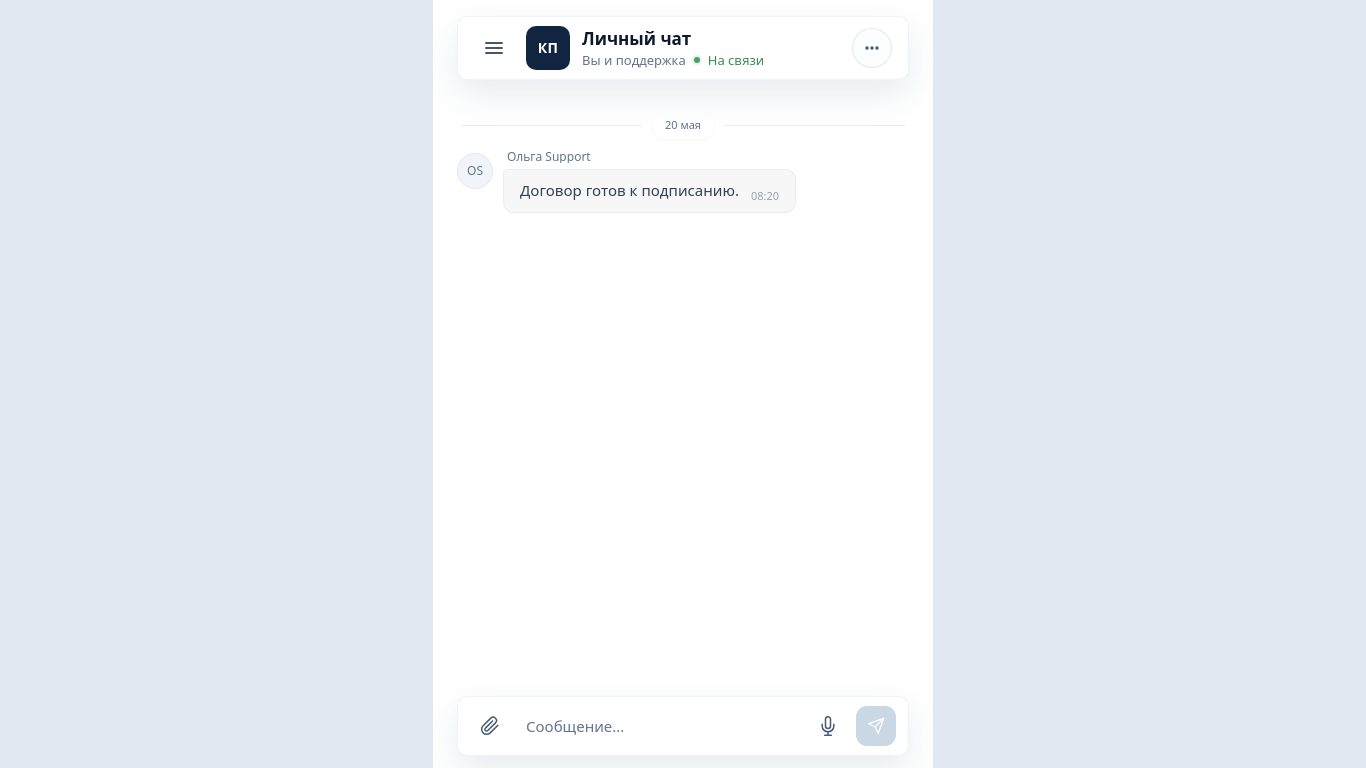
Test case: ChatPage search context regressions › ignores stale context responses when another search result opens first
This screenshot has width=1366, height=768.
Expected: the text "Договор готов к подписанию." is shown, [520, 180, 739, 200]
Click the button named "Открыть меню чата": (872, 48) [852, 28, 892, 68]
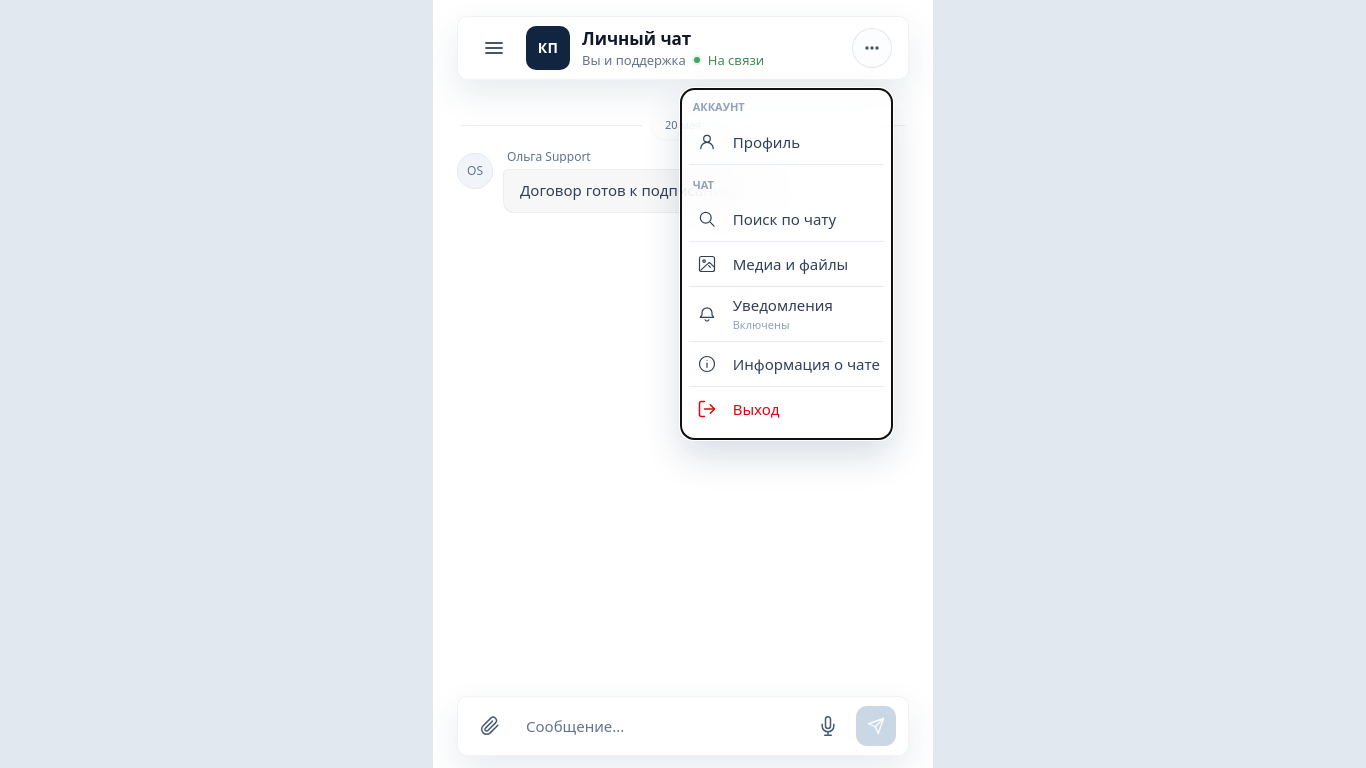
Click the menu item "Поиск по чату": (786, 220) [689, 197, 884, 242]
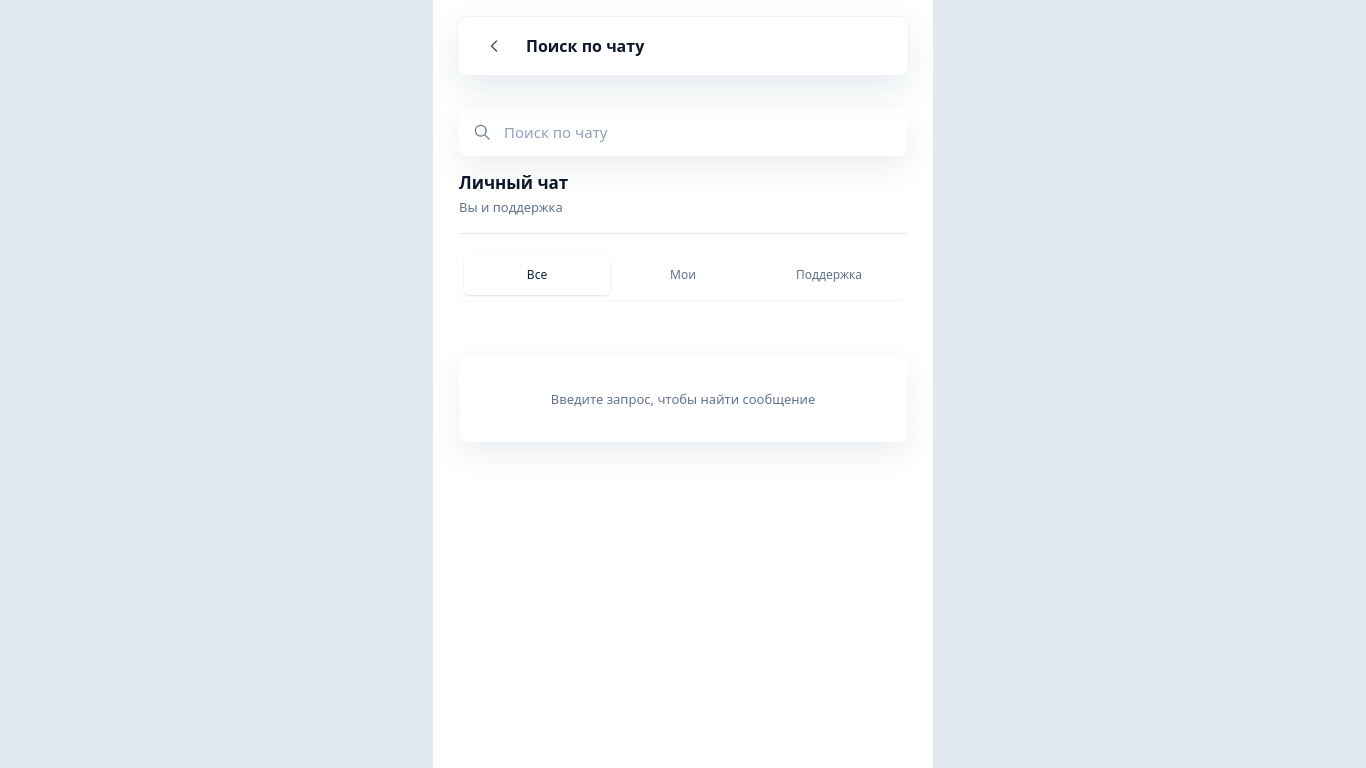
In the search field labelled "Поиск по чату": (699, 132) [504, 110, 894, 154], type "договор"
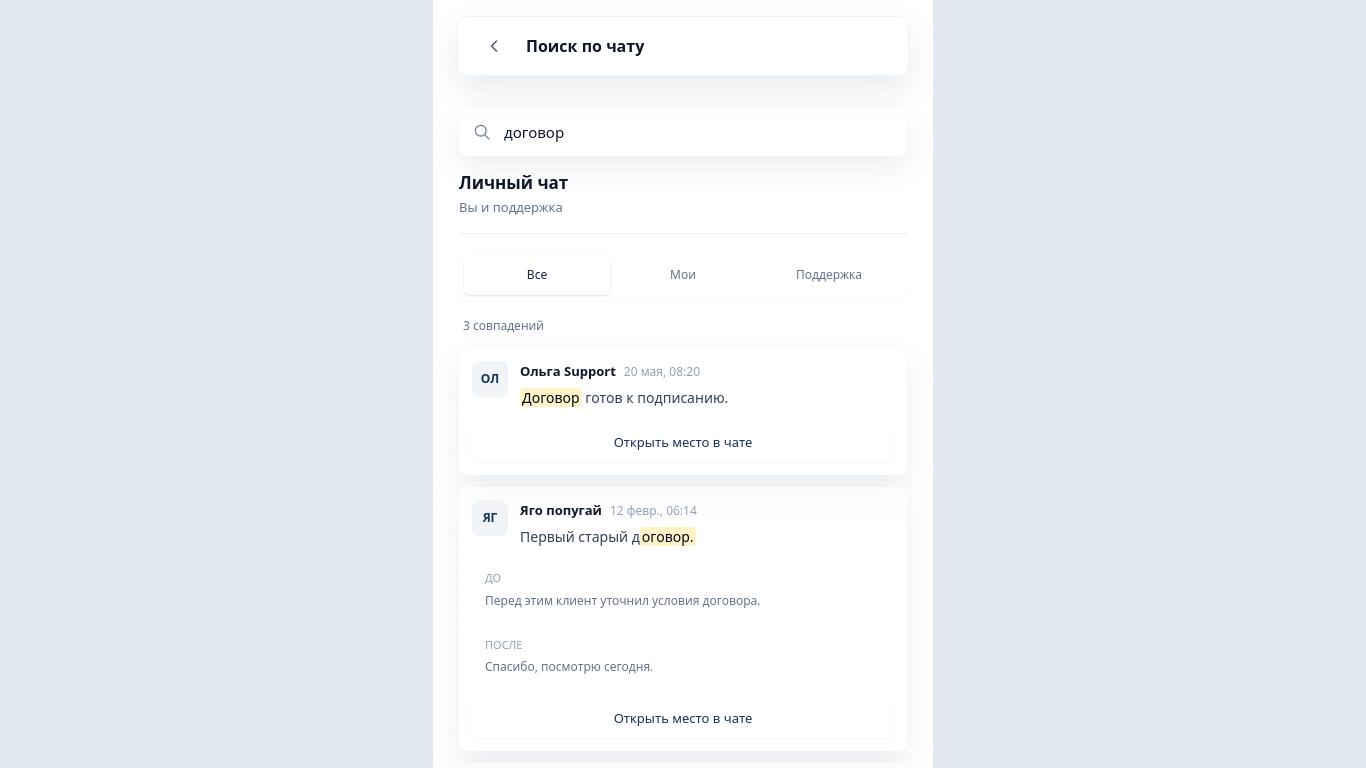
Click the button "Открыть место в чате" below "Спасибо, посмотрю сегодня.": (683, 718) [472, 698, 894, 738]
(page scrolled)
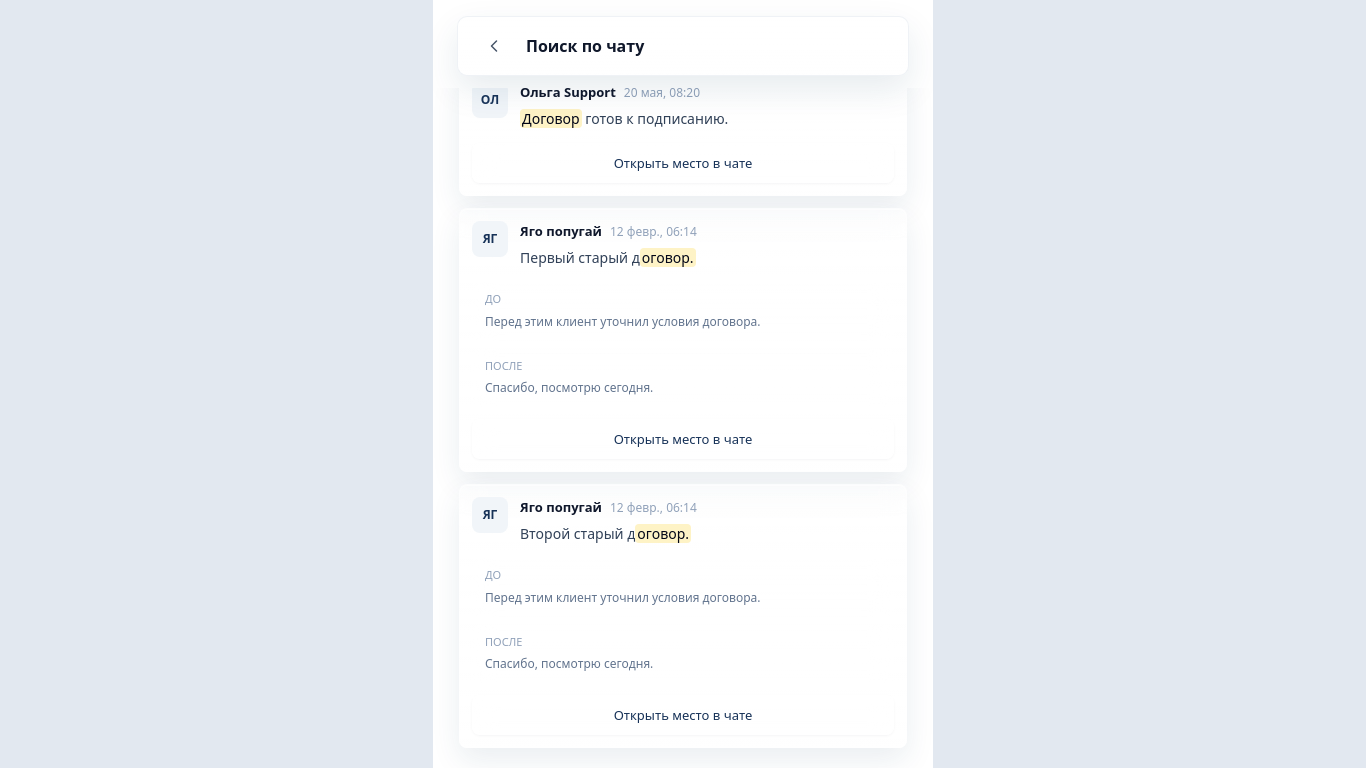
Click the button "Открыть место в чате" below "Второй старый д": (683, 715) [472, 695, 894, 735]
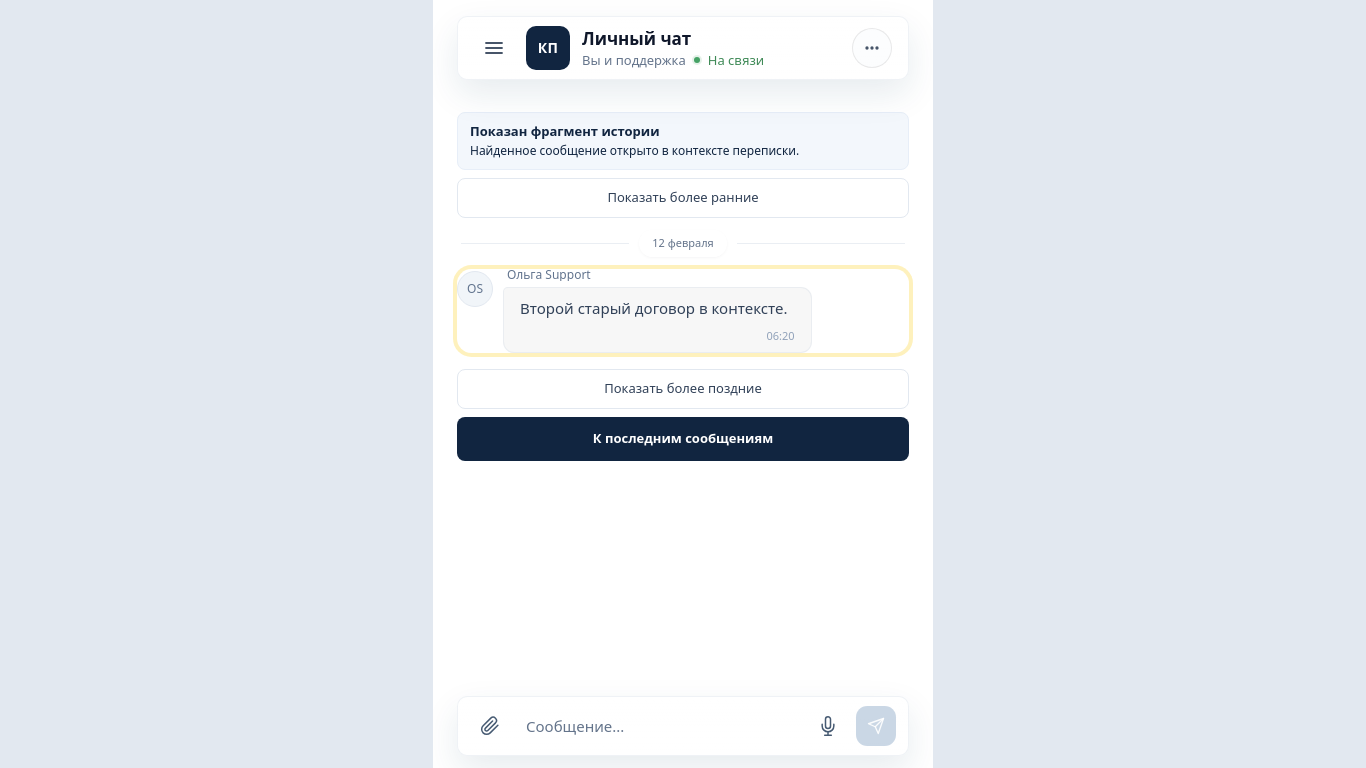
Result: the text "Показан фрагмент истории" is shown at [470, 122, 660, 140]
Result: the text "Второй старый договор в контексте." is shown at [520, 298, 788, 318]
